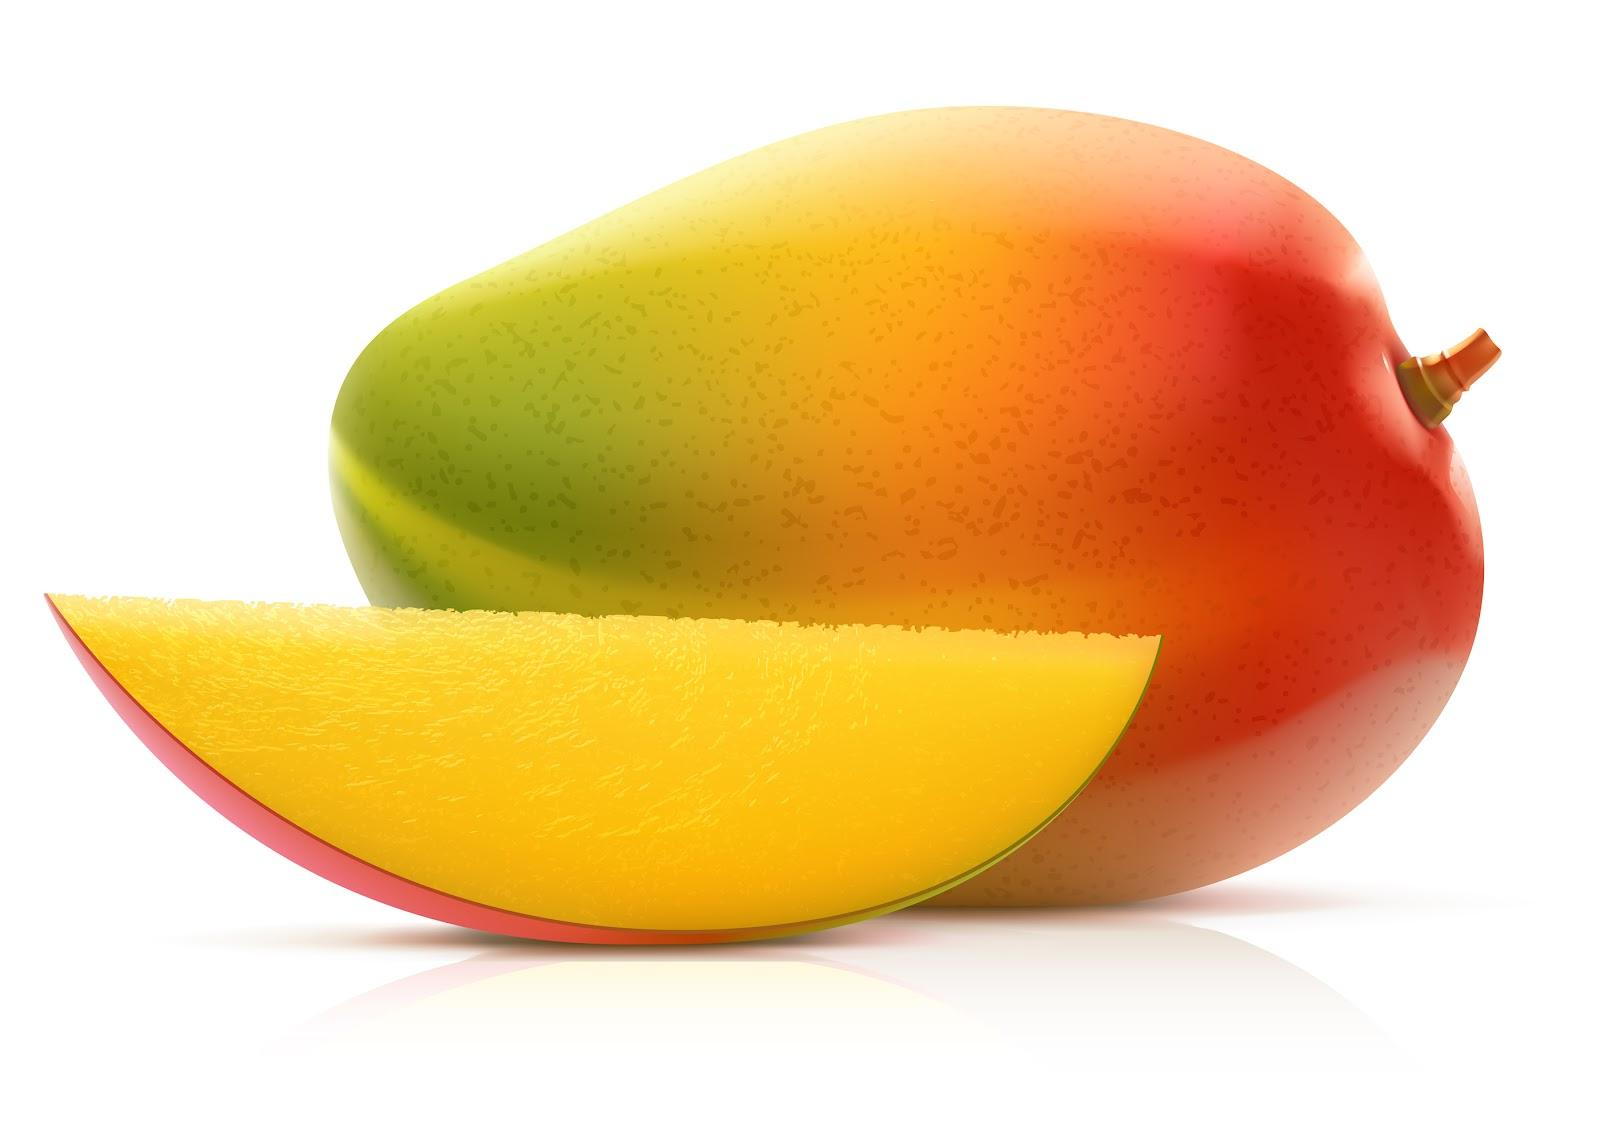mango: (307, 88, 1559, 736), (27, 584, 1167, 960)
